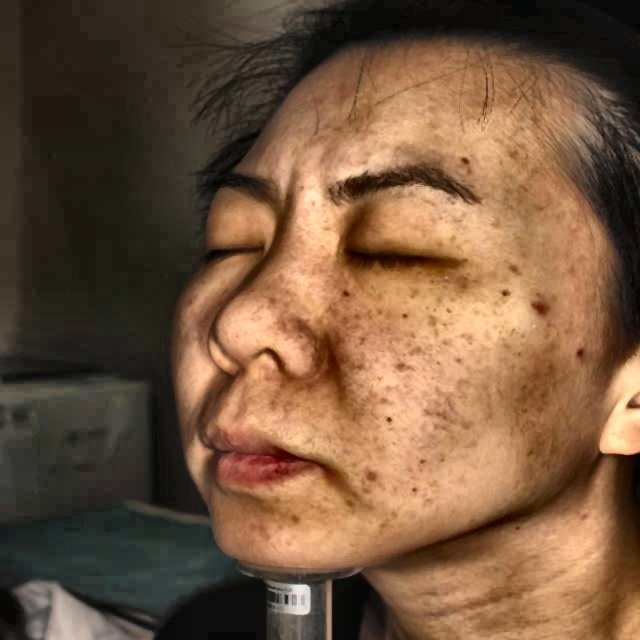comedone: (526, 298, 556, 325)
